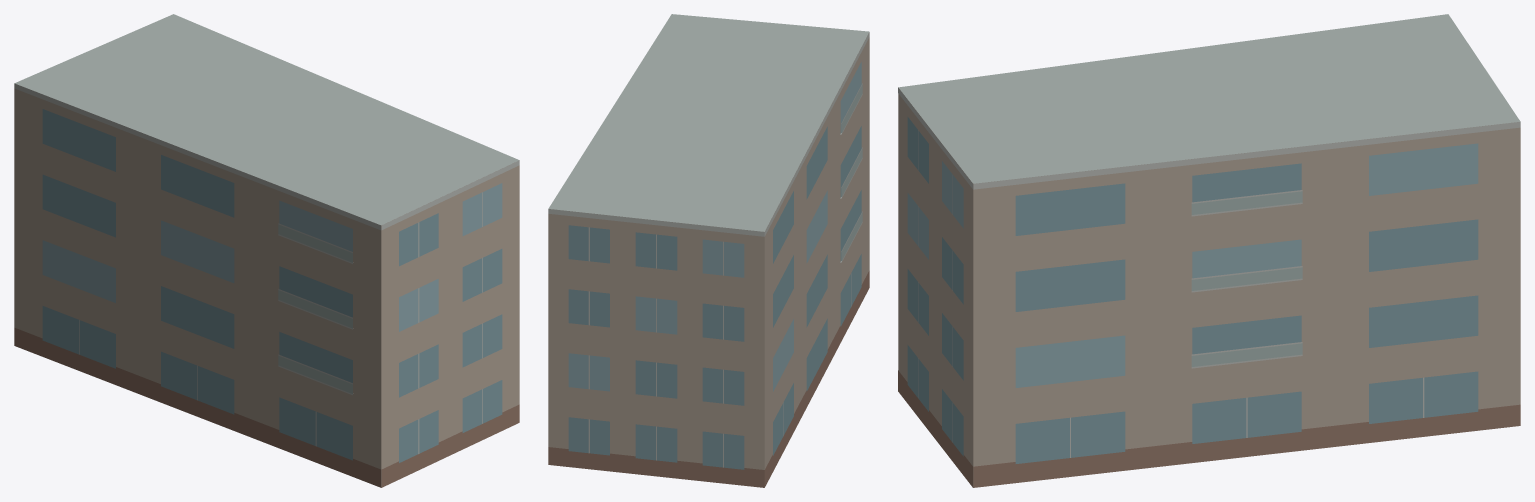
The model's file is survey-upis-32835580.glb.
3 renders of one model, left to right at view 1: azimuth 30°, elevation 25°; view 2: azimuth 150°, elevation 25°; view 3: azimuth 270°, elevation 25°, orthographic. The views are drawn at different scales.
Parts seen in each view (by area): view 1: survey-upis-32835580.tmp; view 2: survey-upis-32835580.tmp; view 3: survey-upis-32835580.tmp.
Boxes of the visible parts, x1,y1,x2,y2 form: survey-upis-32835580.tmp: (14,14,519,487); survey-upis-32835580.tmp: (548,14,869,487); survey-upis-32835580.tmp: (898,14,1520,487).
Bounding box in the file's own units: 15.22 × 12.7 × 23.57.
